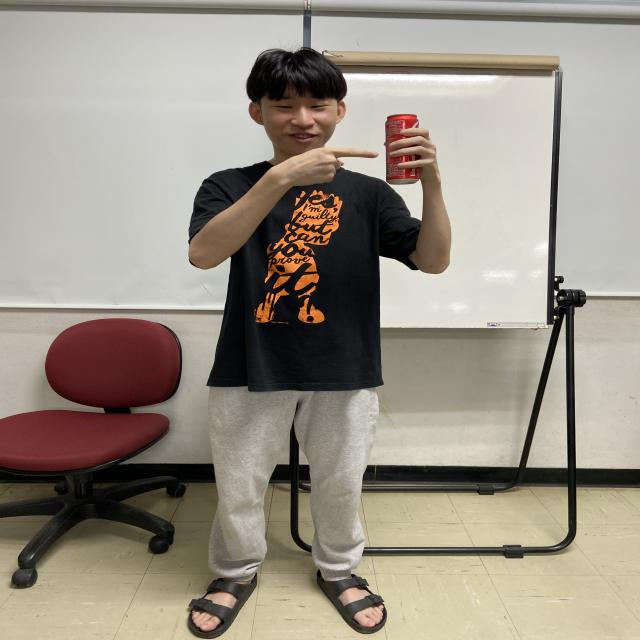can: (385, 113, 420, 185)
